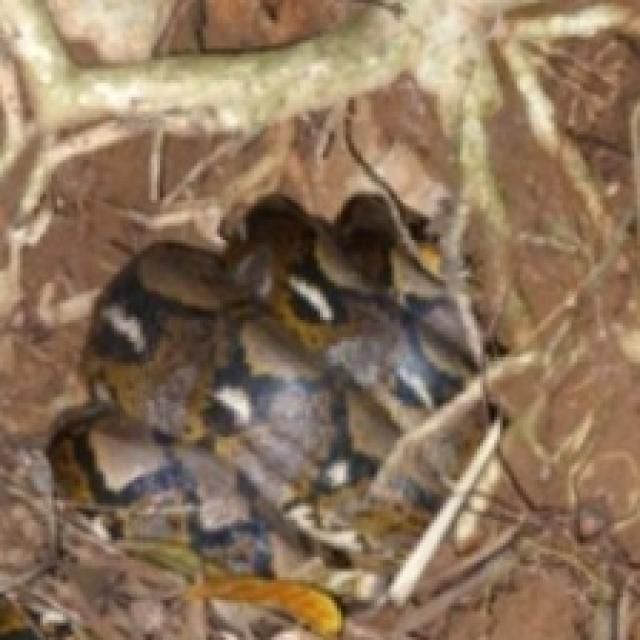reticulated python: (49, 194, 480, 603)
